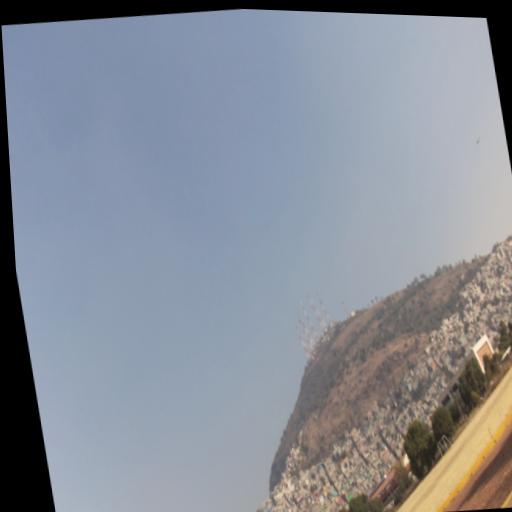drones: (475, 137, 481, 146)
